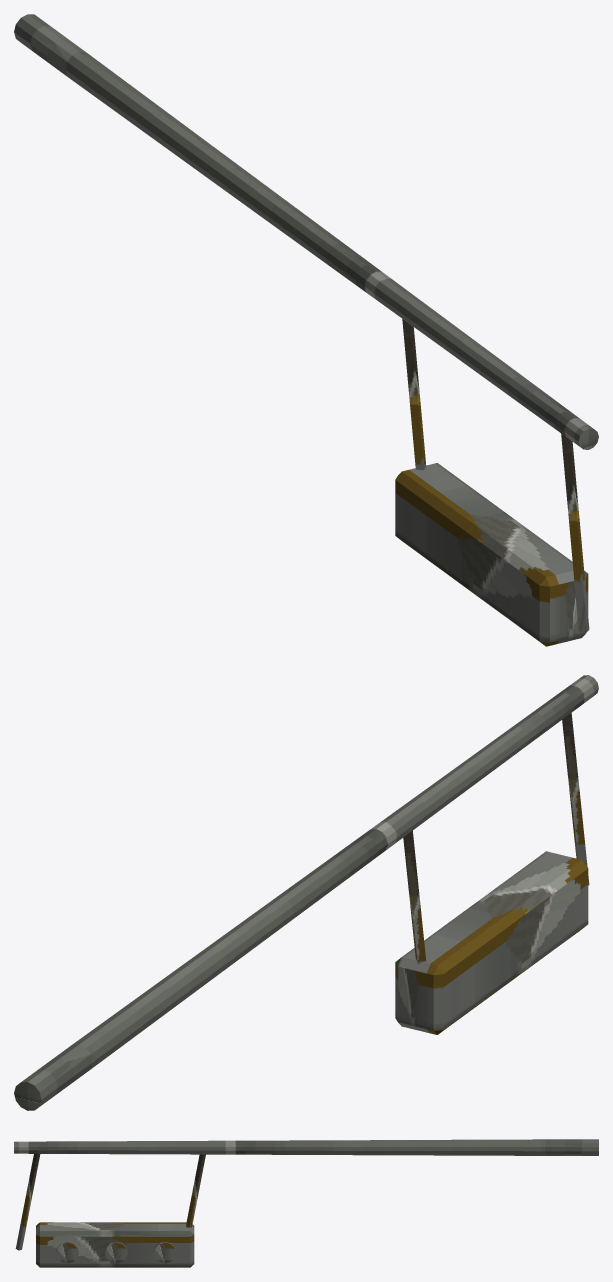
File: pz_street_pole_15.obj
3 renders of one model, top to bottom at view 1: azimuth 30°, elevation 25°; view 2: azimuth 150°, elevation 25°; view 3: azimuth 270°, elevation 25°, orthographic. The views are drawn at different scales.
Parts seen in each view (by area): view 1: pz_street_pole_15_|_tapered_native_street_pole, pz_street_pole_15_|_native_traffic_signal_housing, pz_street_pole_15_|_traffic_light_support_arm.001, pz_street_pole_15_|_traffic_light_support_arm; view 2: pz_street_pole_15_|_tapered_native_street_pole, pz_street_pole_15_|_native_traffic_signal_housing, pz_street_pole_15_|_traffic_light_support_arm.001, pz_street_pole_15_|_traffic_light_support_arm; view 3: pz_street_pole_15_|_tapered_native_street_pole, pz_street_pole_15_|_native_traffic_signal_housing, pz_street_pole_15_|_traffic_light_support_arm.001, pz_street_pole_15_|_traffic_light_support_arm, pz_street_pole_15_|_signal_light_lens.002, pz_street_pole_15_|_signal_light_lens, pz_street_pole_15_|_signal_light_lens.001.
Boxes of the visible parts, x1,y1,x2,y2 form: pz_street_pole_15_|_tapered_native_street_pole: (14, 14, 598, 449); pz_street_pole_15_|_native_traffic_signal_housing: (395, 463, 588, 646); pz_street_pole_15_|_traffic_light_support_arm.001: (561, 433, 589, 631); pz_street_pole_15_|_traffic_light_support_arm: (402, 319, 426, 470); pz_street_pole_15_|_tapered_native_street_pole: (14, 675, 598, 1110); pz_street_pole_15_|_native_traffic_signal_housing: (395, 851, 588, 1034); pz_street_pole_15_|_traffic_light_support_arm.001: (562, 713, 589, 885); pz_street_pole_15_|_traffic_light_support_arm: (403, 830, 426, 964); pz_street_pole_15_|_tapered_native_street_pole: (14, 1139, 598, 1155); pz_street_pole_15_|_native_traffic_signal_housing: (36, 1222, 194, 1267); pz_street_pole_15_|_traffic_light_support_arm.001: (15, 1154, 40, 1250); pz_street_pole_15_|_traffic_light_support_arm: (186, 1154, 205, 1227); pz_street_pole_15_|_signal_light_lens.002: (153, 1241, 176, 1263); pz_street_pole_15_|_signal_light_lens: (56, 1241, 78, 1263); pz_street_pole_15_|_signal_light_lens.001: (105, 1241, 127, 1263).
Size of the model in its own units: 0.139 by 0.556 by 2.4.
5 materials, 5 textured.
